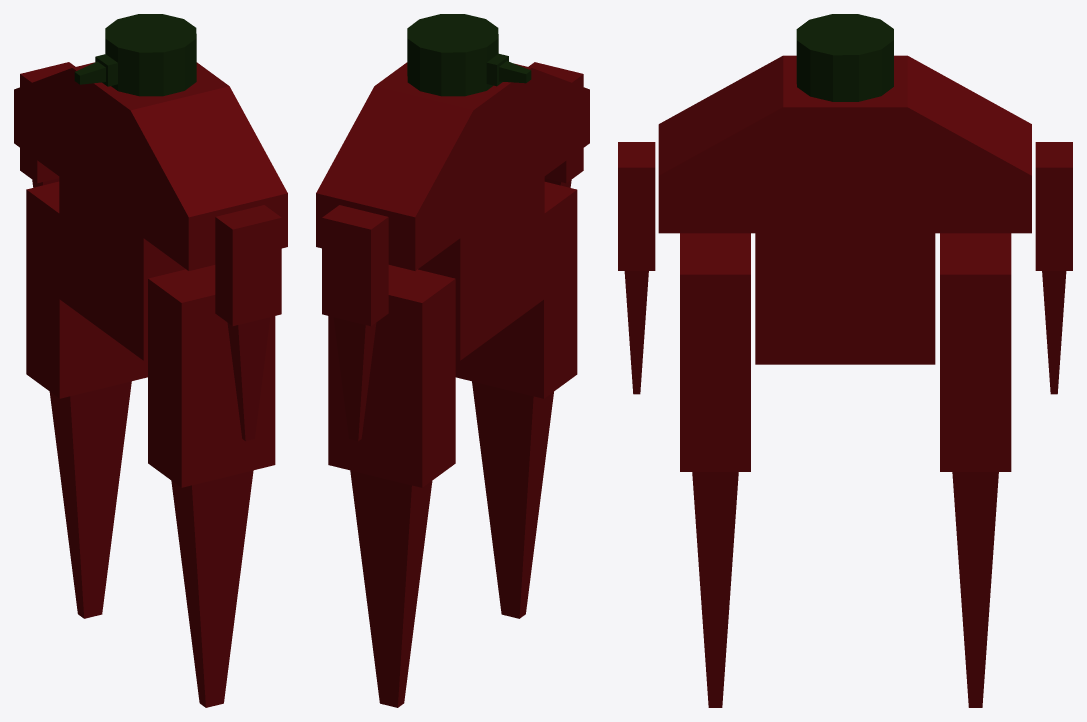
File: TestMonster.fbx
3 views of the same model, side by side, from view 1: azimuth 30°, elevation 25°; view 2: azimuth 150°, elevation 25°; view 3: azimuth 270°, elevation 25° (orthographic). The views are drawn at different scales.
Visible parts, largest first — view 1: Cube, Cube.002, Cube.001, Cube.003, Cylinder, Cube.004; view 2: Cube, Cube.001, Cube.002, Cube.004, Cylinder, Cube.003; view 3: Cube, Cube.001, Cube.002, Cylinder, Cube.003, Cube.004.
Boxes of the visible parts, x1,y1,x2,y2 form: Cube: (14, 62, 287, 360); Cube.002: (148, 265, 275, 707); Cube.001: (26, 181, 147, 618); Cube.003: (215, 205, 281, 441); Cylinder: (74, 14, 196, 96); Cube.004: (20, 62, 75, 187); Cube: (316, 62, 589, 360); Cube.001: (328, 265, 455, 707); Cube.002: (455, 182, 577, 618); Cube.004: (322, 205, 388, 441); Cylinder: (407, 14, 531, 96); Cube.003: (528, 62, 583, 187); Cube: (658, 55, 1031, 364); Cube.001: (940, 233, 1011, 707); Cube.002: (680, 233, 750, 707); Cylinder: (796, 14, 893, 101); Cube.003: (618, 142, 655, 394); Cube.004: (1035, 142, 1072, 394).
Bounding box in the file's own units: 39.68 × 191 × 118.
